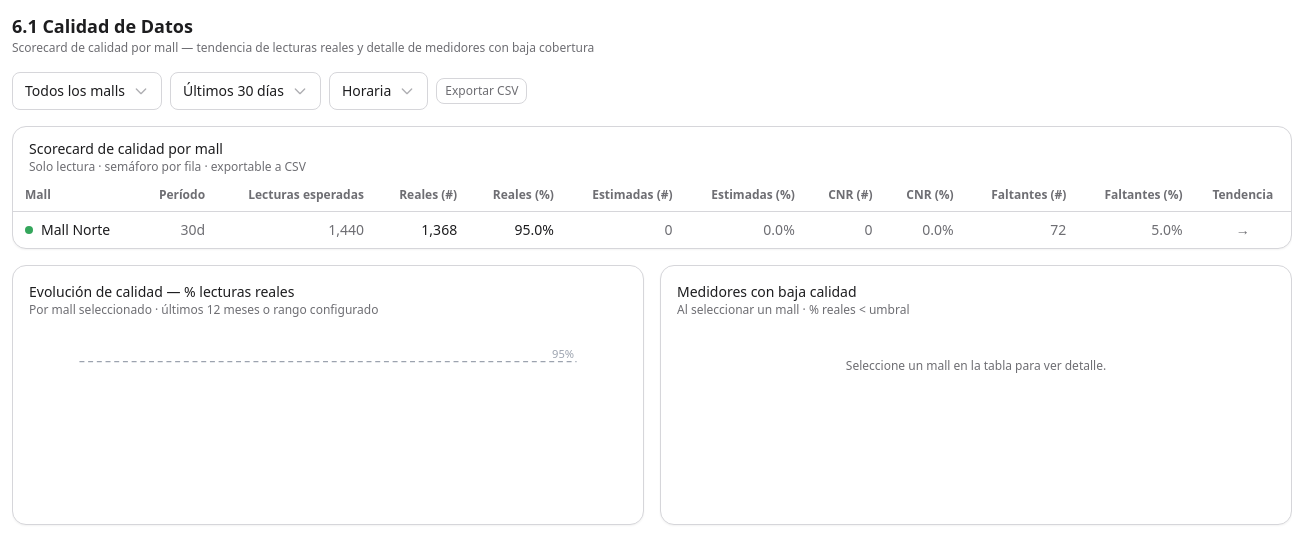
Test case: CalidadDatosPage › shows detail after clicking row
Click the row "Mall Norte 30d 1,440 1,368 95.0% 0 0.0% 0 0.0% 72 5.0% →" at [76, 230], box [13,212,1291,248]
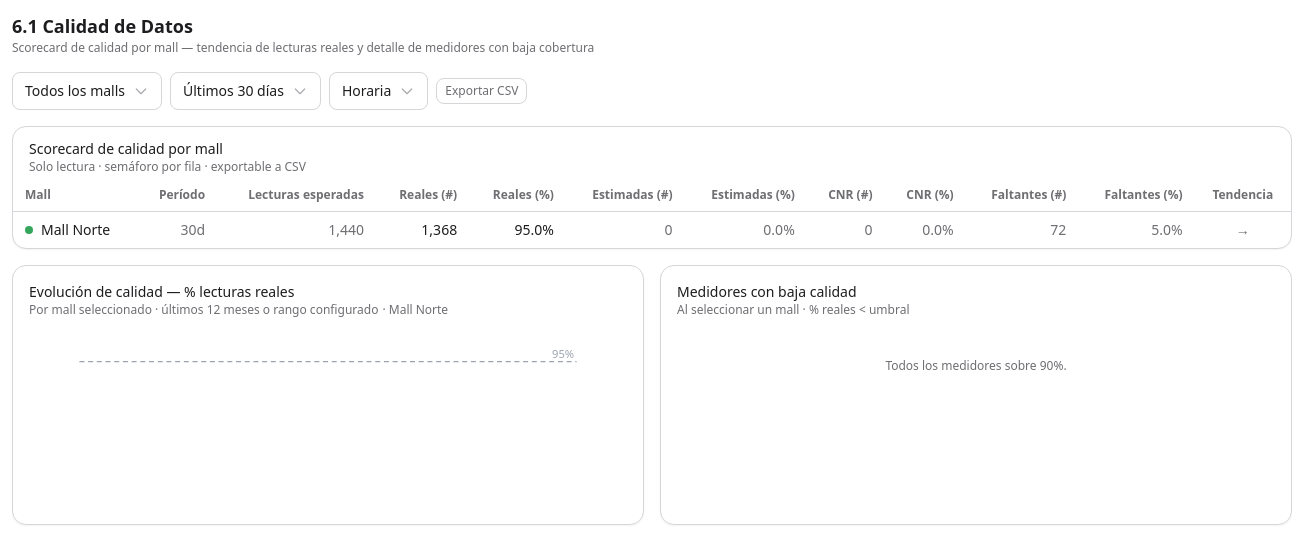
Now the text "Seleccione un mall" is gone
